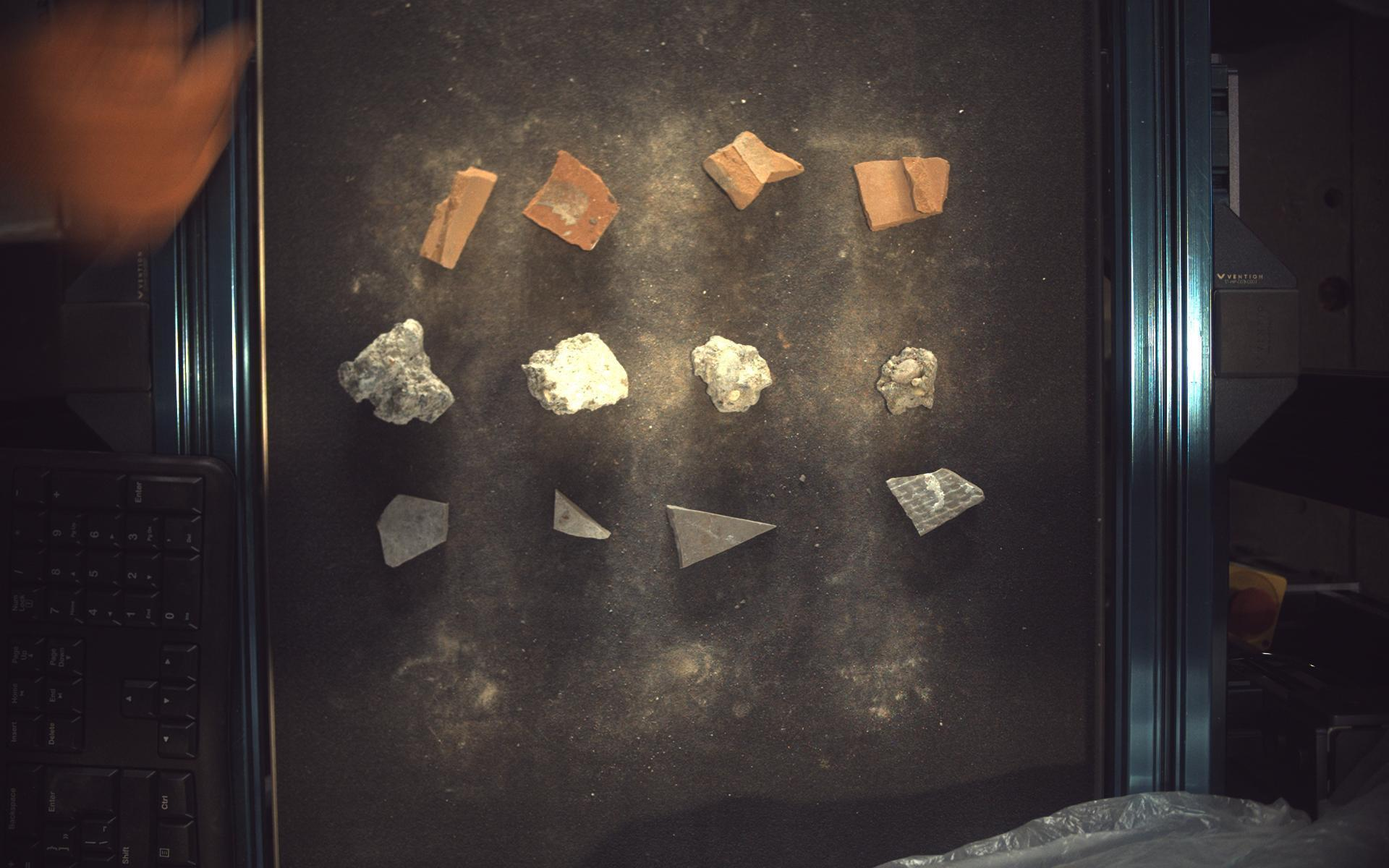brick: (524, 149, 620, 250), (704, 130, 805, 209), (420, 166, 497, 268), (856, 156, 951, 231)
concrete: (338, 318, 454, 425), (522, 332, 629, 415), (692, 335, 773, 412), (878, 346, 940, 414)
tile: (668, 505, 776, 569), (889, 469, 987, 535), (377, 495, 449, 568), (555, 490, 611, 540)
